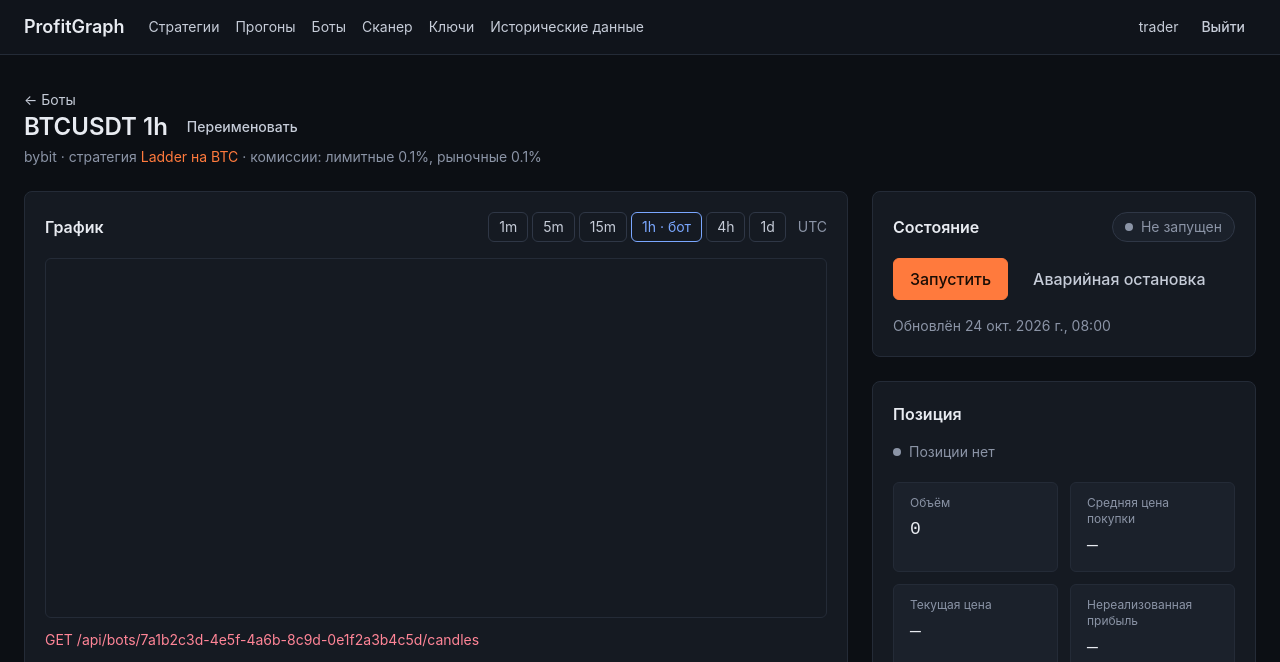
renaming › names a bot, falls back to symbol and timeframe when the name is cleared
Expected: the heading "BTCUSDT 1h" is shown, [24, 111, 168, 143]
Click the button "Переименовать" at (242, 127), box [176, 112, 309, 142]
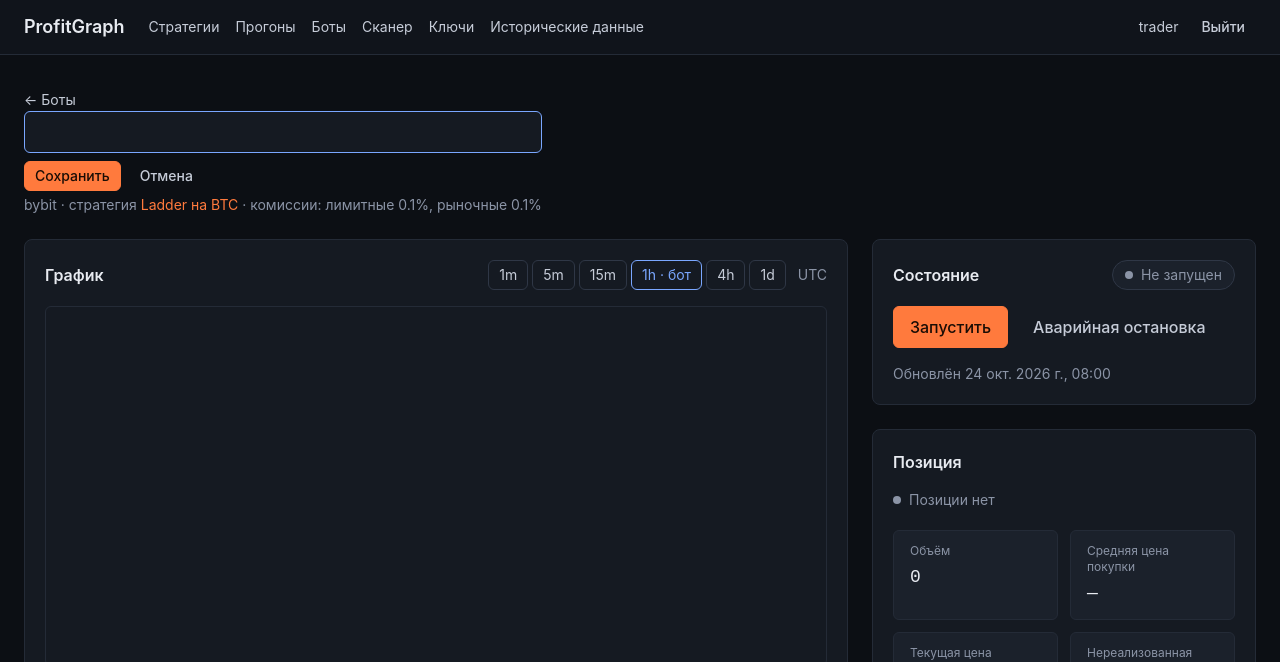
Type "Основной бот" into the field named "Название бота" at (283, 132), box [24, 111, 542, 153]
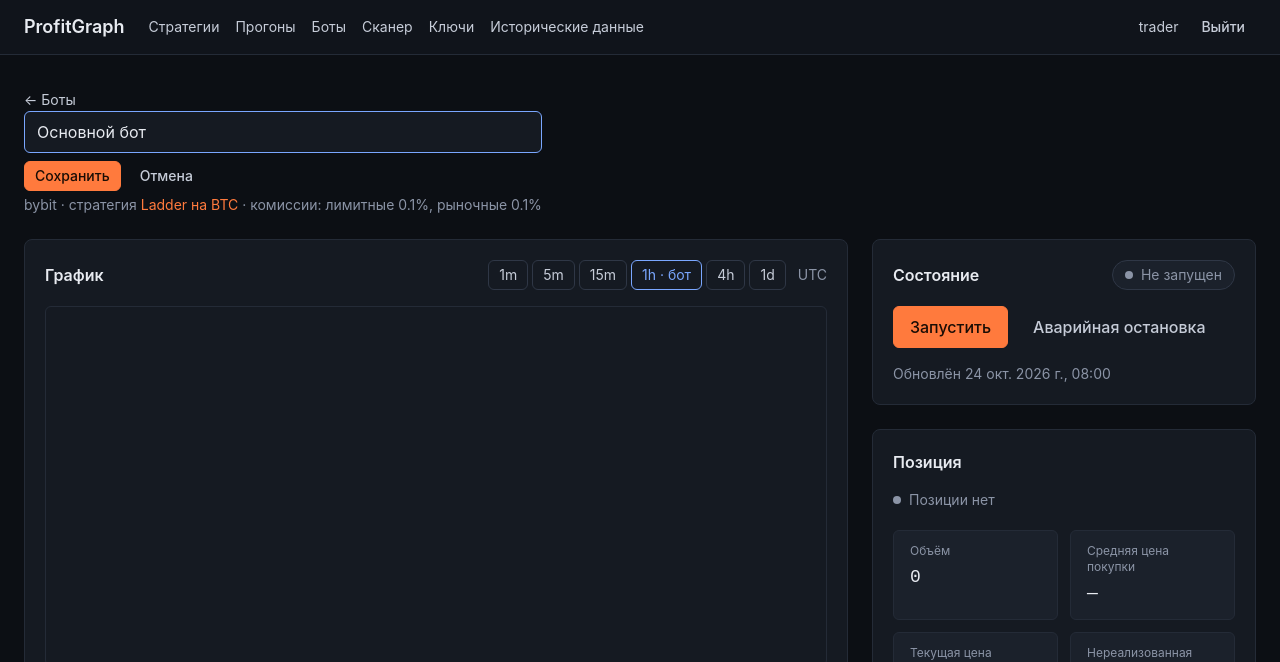
Click the button "Сохранить" at (72, 176), box [24, 161, 121, 191]
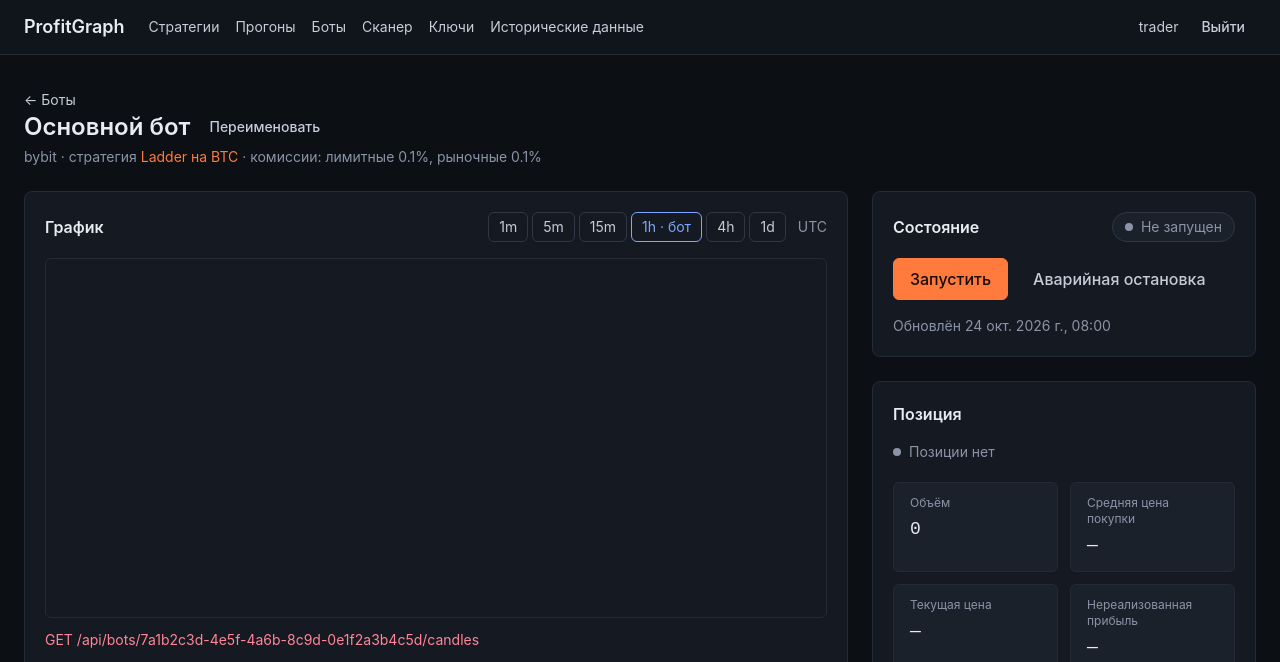
Result: the heading "Основной бот" is shown at [24, 111, 190, 143]
Click the button "Переименовать" at (265, 127), box [198, 112, 331, 142]
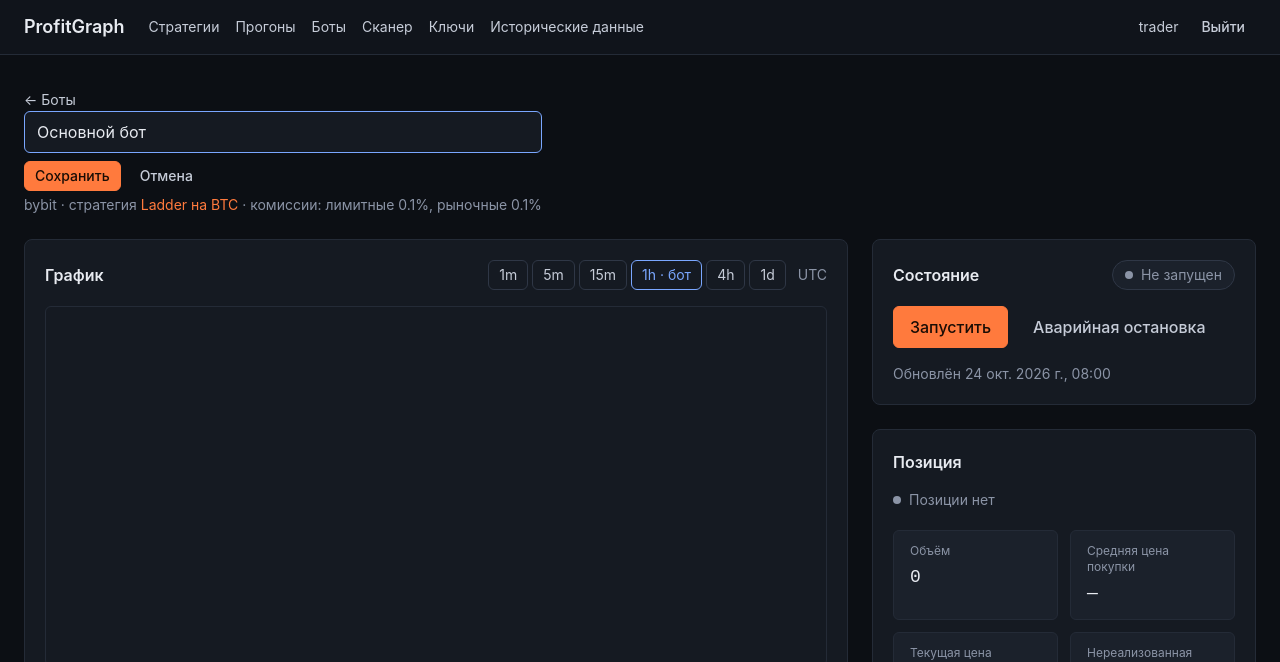
Clear the field named "Название бота" at (283, 132), box [24, 111, 542, 153]
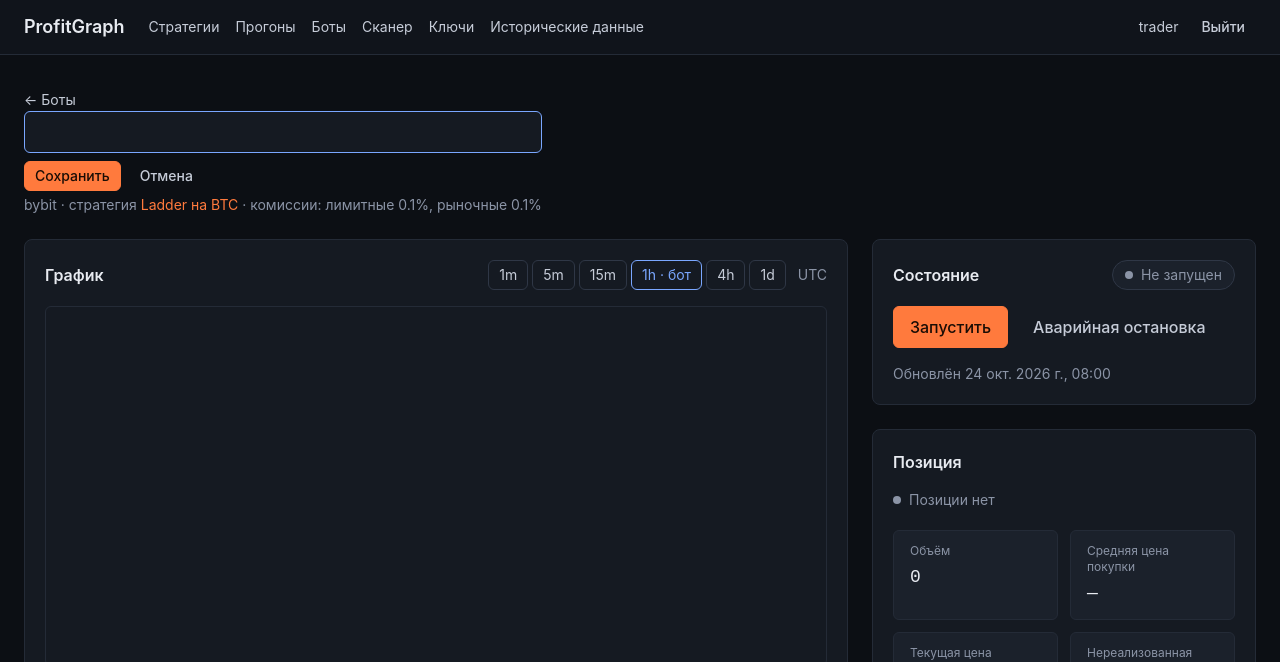
Click the button "Сохранить" at (72, 176), box [24, 161, 121, 191]
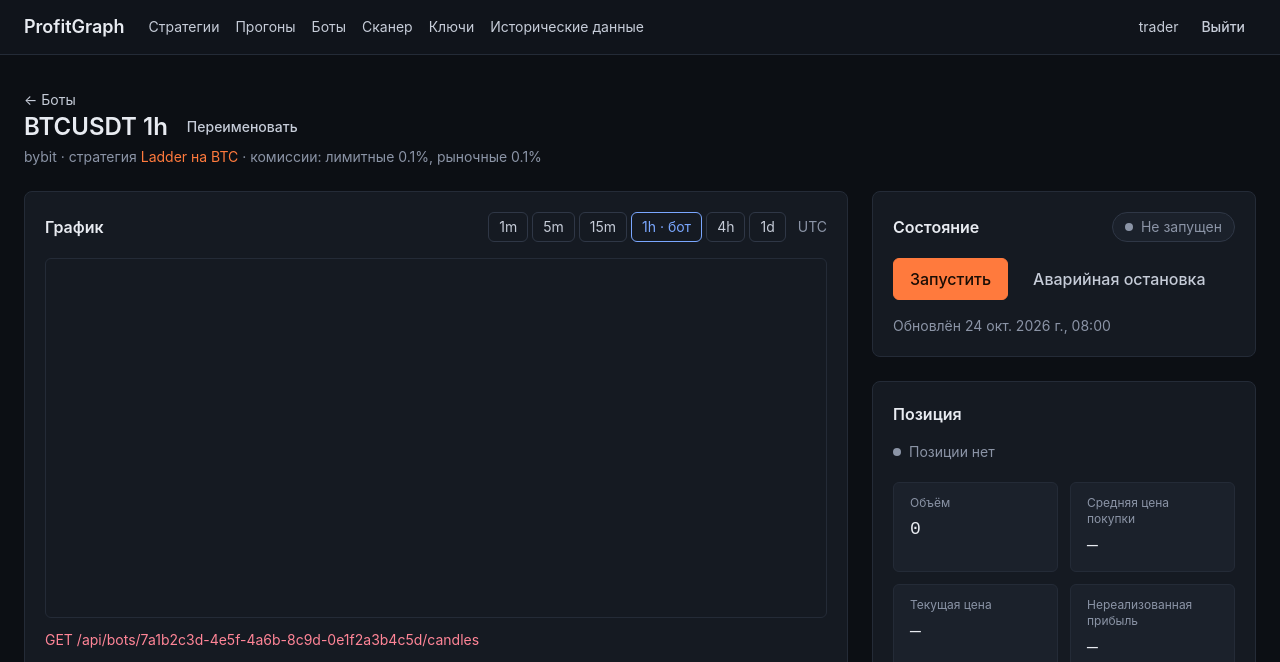
Result: the heading "BTCUSDT 1h" is shown at [24, 111, 168, 143]
